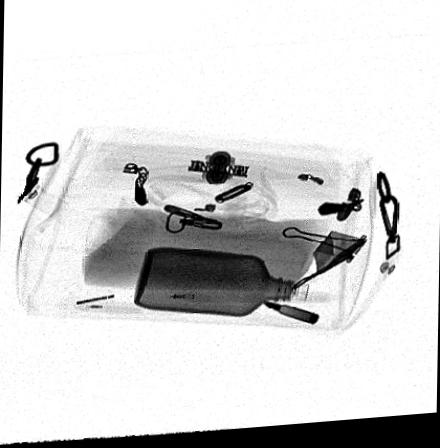Bullet: (259, 305, 320, 330)
